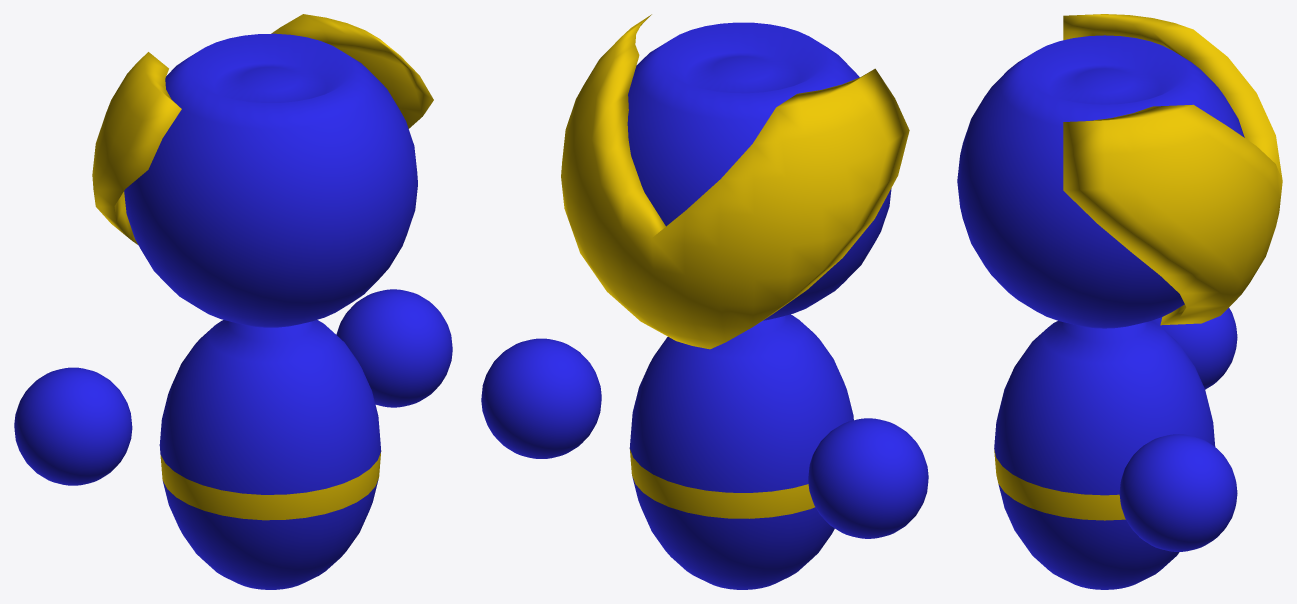
The model's file is EnemyBlue.fbx.
The picture shows the model from 3 angles, left to right: view 1: azimuth 30°, elevation 25°; view 2: azimuth 150°, elevation 25°; view 3: azimuth 270°, elevation 25°; orthographic projection. The views are drawn at different scales.
Parts seen in each view (by area): view 1: Sphere.004, Sphere.001, Sphere, Sphere.002, Sphere.003; view 2: Sphere, Sphere.001, Sphere.004, Sphere.002, Sphere.003; view 3: Sphere.004, Sphere.001, Sphere, Sphere.003, Sphere.002.
Part boxes in pixels (left/top/right/bottom): Sphere.004: left=124, top=33, right=417, bottom=327; Sphere.001: left=159, top=320, right=381, bottom=589; Sphere: left=92, top=14, right=433, bottom=244; Sphere.002: left=14, top=367, right=132, bottom=485; Sphere.003: left=336, top=289, right=452, bottom=407; Sphere: left=561, top=14, right=909, bottom=349; Sphere.001: left=629, top=314, right=853, bottom=589; Sphere.004: left=627, top=22, right=891, bottom=320; Sphere.002: left=808, top=418, right=928, bottom=538; Sphere.003: left=481, top=338, right=601, bottom=458; Sphere.004: left=957, top=35, right=1244, bottom=328; Sphere.001: left=994, top=321, right=1215, bottom=589; Sphere: left=1063, top=14, right=1282, bottom=325; Sphere.003: left=1119, top=434, right=1237, bottom=551; Sphere.002: left=1152, top=308, right=1237, bottom=389.
Bounding box in the file's own units: 330 × 385 × 221.
